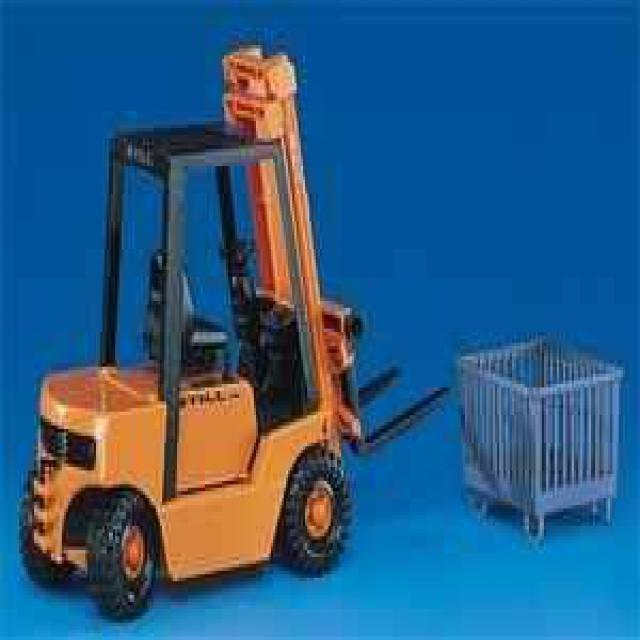forklift: (21, 38, 451, 622)
